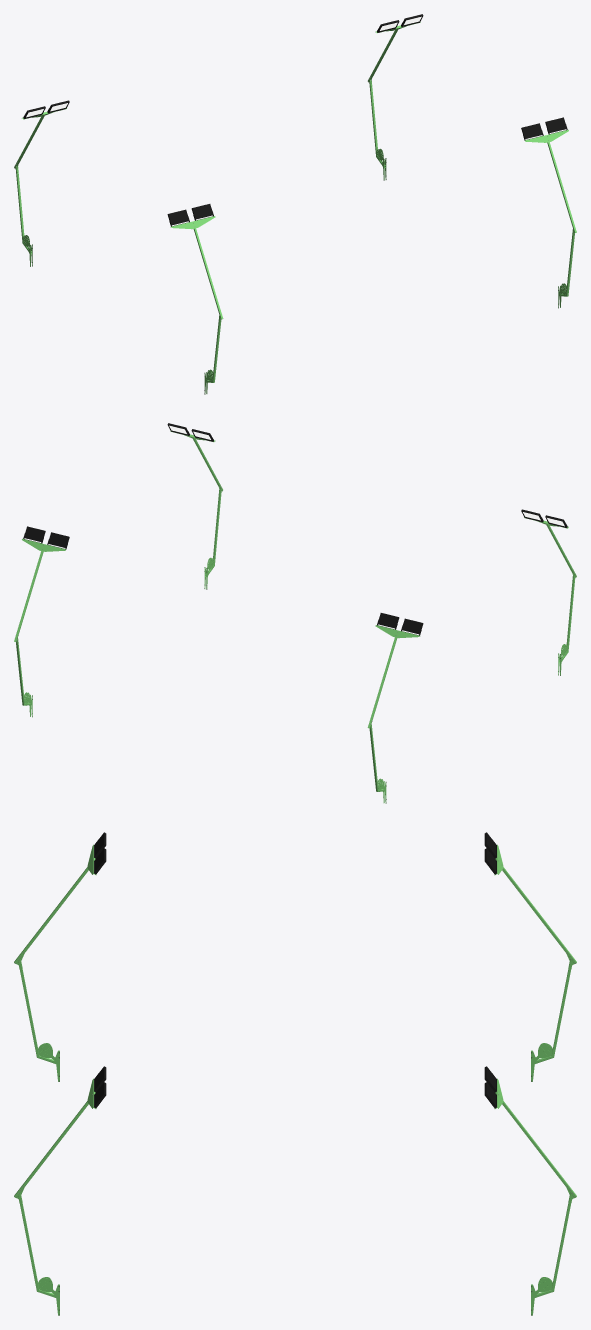
Rendered from 4-variant.glb.
3 renders of one model, top to bottom at view 1: azimuth 30°, elevation 25°; view 2: azimuth 150°, elevation 25°; view 3: azimuth 270°, elevation 25°, orthographic. The views are drawn at different scales.
Parts seen in each view (by area): view 1: Lighting_mast002; view 2: Lighting_mast002; view 3: Lighting_mast002.
Boxes of the visible parts, x1=… form: Lighting_mast002: x1=14, y1=14, x2=576, y2=394; Lighting_mast002: x1=14, y1=423, x2=576, y2=803; Lighting_mast002: x1=14, y1=832, x2=576, y2=1315.
Bounding box in the file's own units: 13.53 × 5.64 × 12.24.
